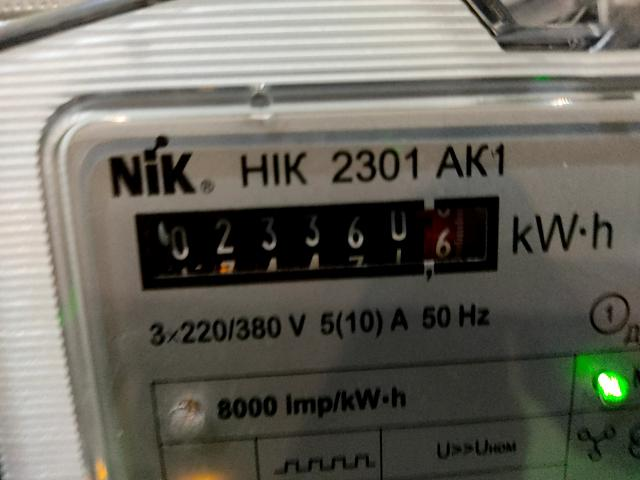0: (167, 221, 192, 263), (387, 206, 410, 243)
2: (211, 215, 237, 255)
3: (258, 213, 279, 253), (300, 211, 322, 249)
6: (342, 211, 368, 252), (434, 225, 455, 261)
screen: (113, 182, 514, 300)
